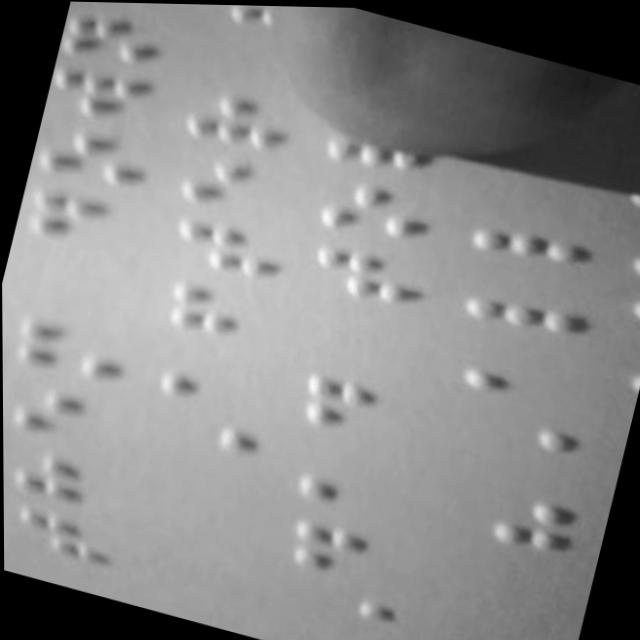braiile: (465, 174, 606, 278), (153, 199, 290, 291), (278, 498, 409, 594), (291, 364, 424, 457), (452, 326, 587, 417), (461, 253, 590, 347), (303, 231, 432, 325), (170, 138, 301, 228), (315, 166, 445, 256), (175, 76, 304, 163), (7, 303, 134, 389), (159, 269, 289, 353), (2, 373, 131, 456), (21, 178, 148, 261), (290, 439, 413, 524), (3, 496, 128, 578), (43, 56, 168, 138), (34, 115, 156, 199), (5, 433, 125, 515), (151, 339, 269, 419), (57, 1, 175, 79)
